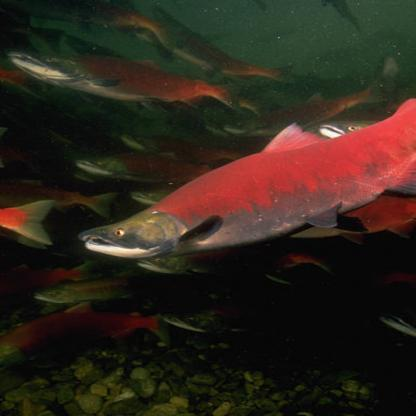sockeye: (86, 101, 416, 264), (5, 32, 228, 106)
